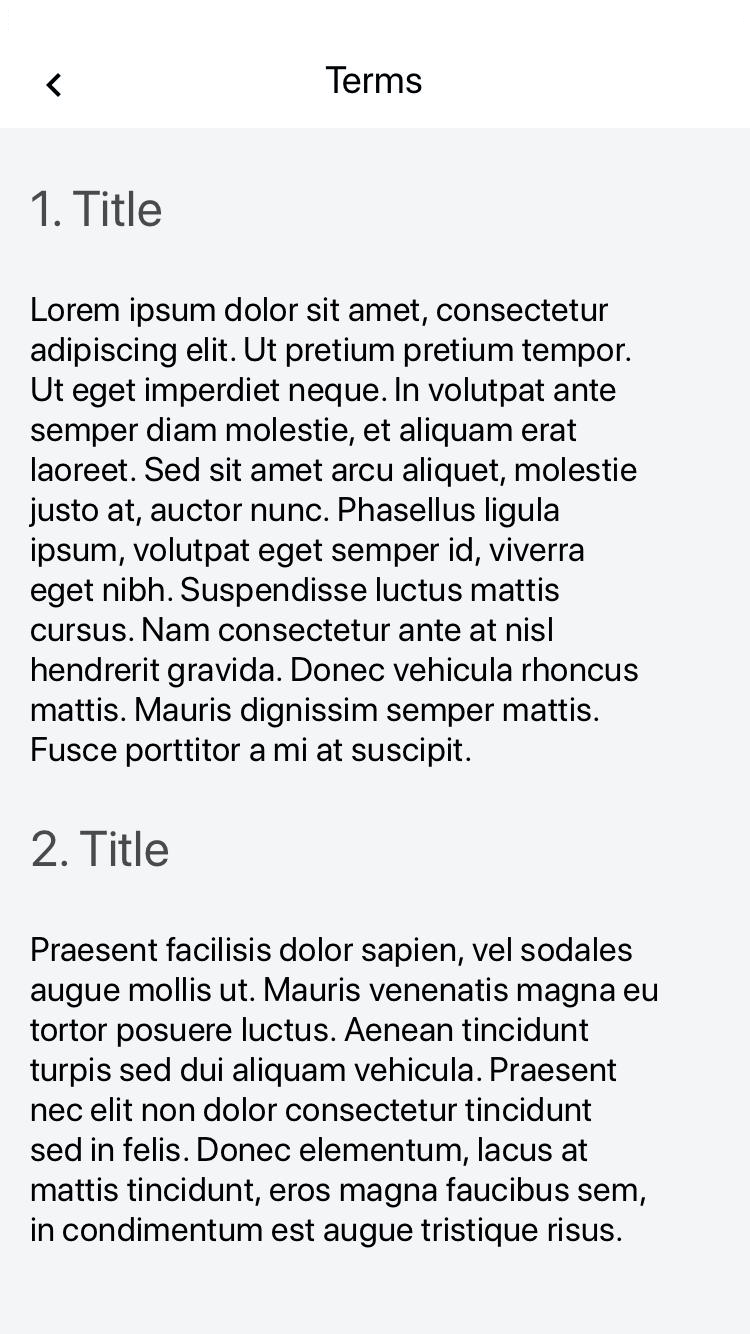Icon: (46, 74, 65, 98)
Text: (30, 296, 639, 768), (30, 933, 658, 1248), (31, 825, 171, 872), (30, 190, 162, 230), (326, 66, 422, 95)
